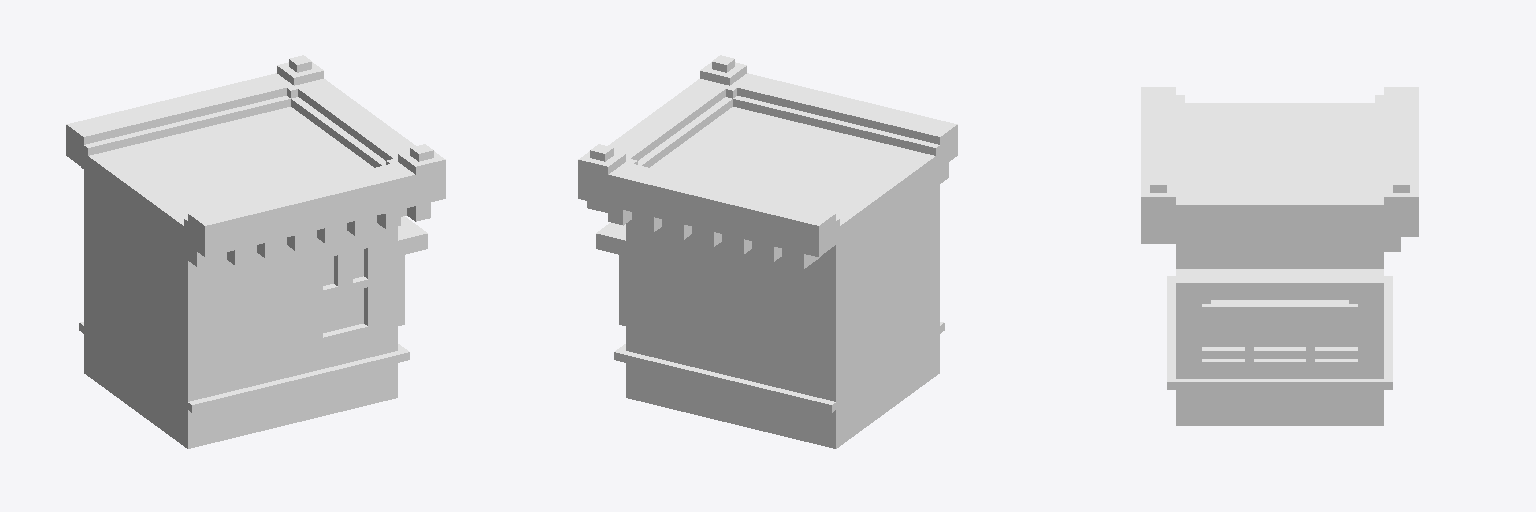
File: tile_1_left_nb.obj
3 renders of one model, left to right at view 1: azimuth 30°, elevation 25°; view 2: azimuth 150°, elevation 25°; view 3: azimuth 270°, elevation 25°, orthographic.
Visible parts, largest first — view 1: object 1; view 2: object 1; view 3: object 1.
Boxes of the visible parts, box(x1,y1,x2,y2) form: object 1: box(66, 55, 445, 448); object 1: box(578, 55, 957, 448); object 1: box(1141, 87, 1418, 425).
Bounding box in the file's own units: 3.2 × 3.2 × 3.2.